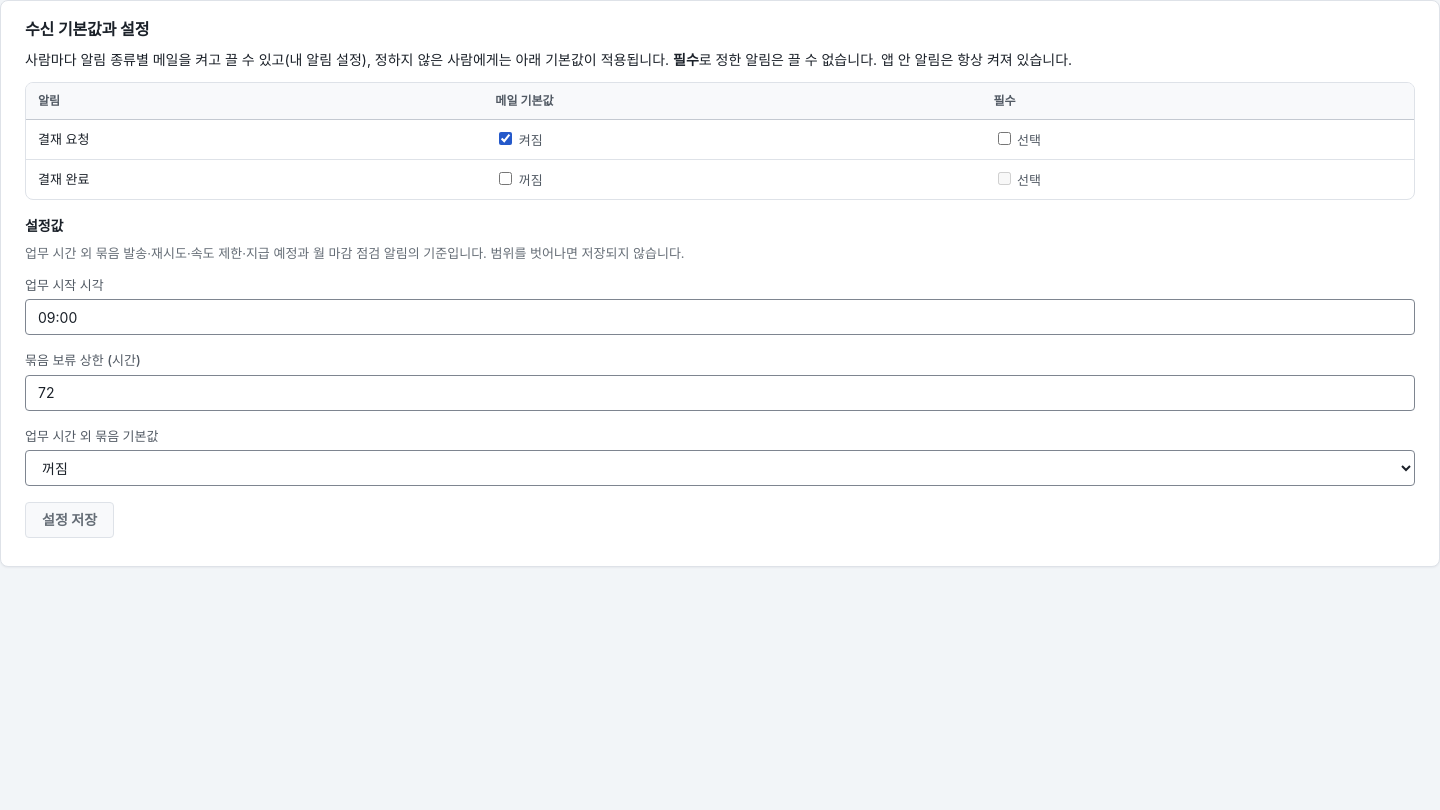
관리자 기본값 › 범위 오류는 서버 문구를 보인다
Step 1. Replace the text in the field labelled "묶음 보류 상한 (시간)" with "0" → (720, 392), box [25,374,1415,410]
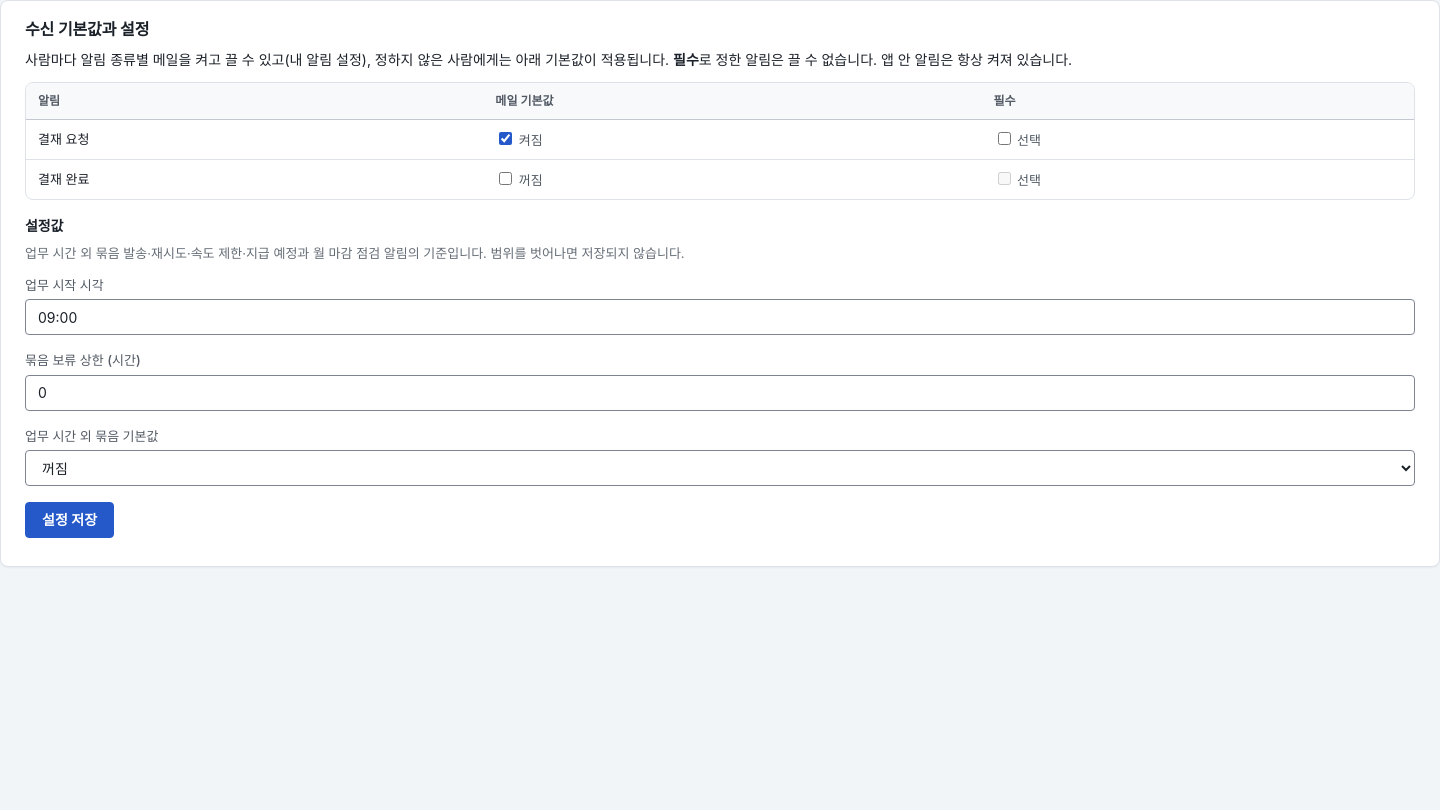
Step 2. Click the button "설정 저장" → (70, 520), box [25,502,114,538]
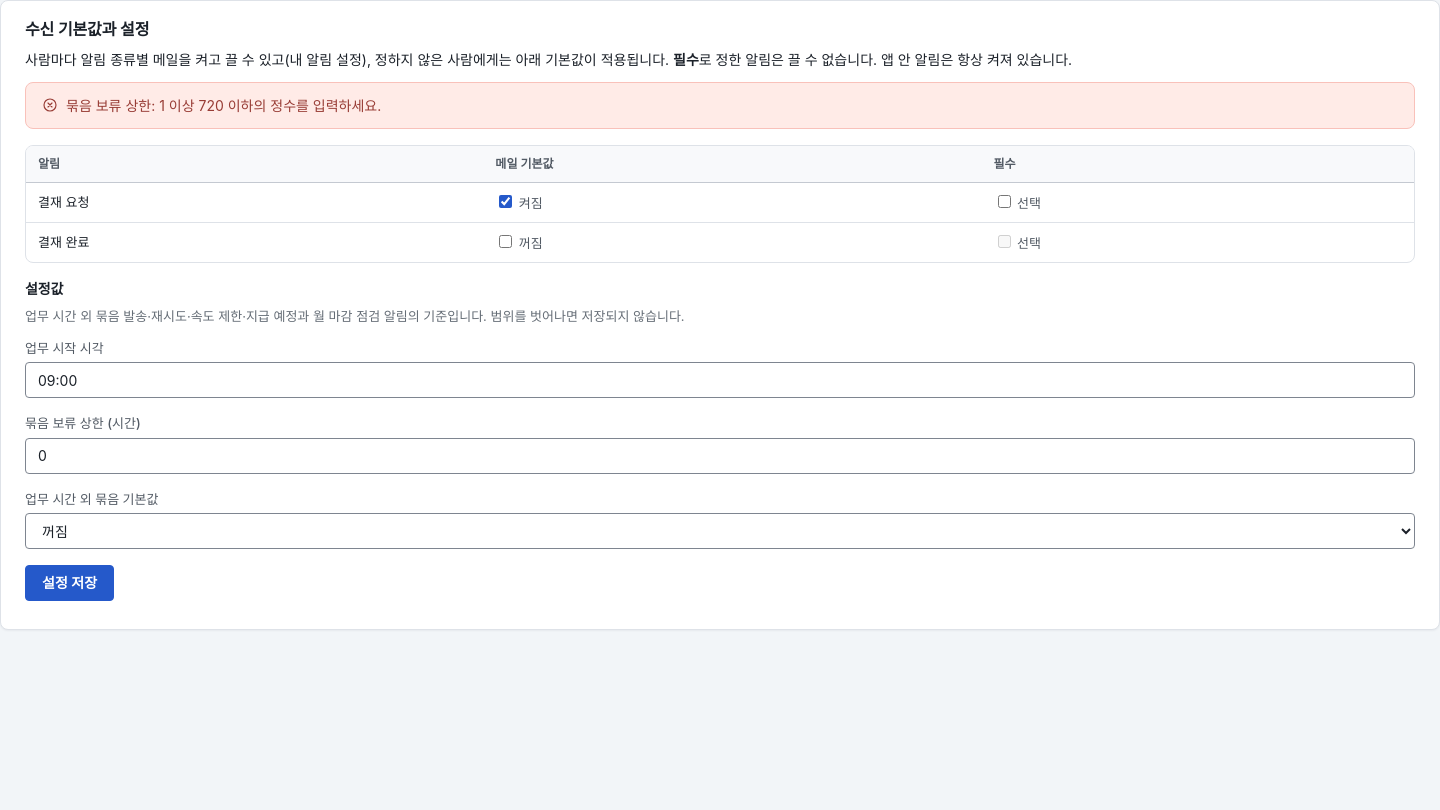
Result: the text "묶음 보류 상한: 1 이상 720 이하의 정수를 입력하세요." is shown at [66,95,381,116]
